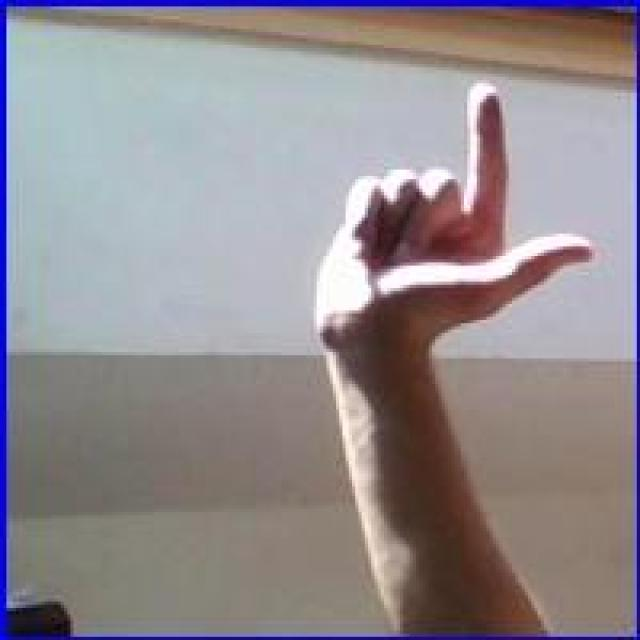L: (306, 78, 596, 373)
